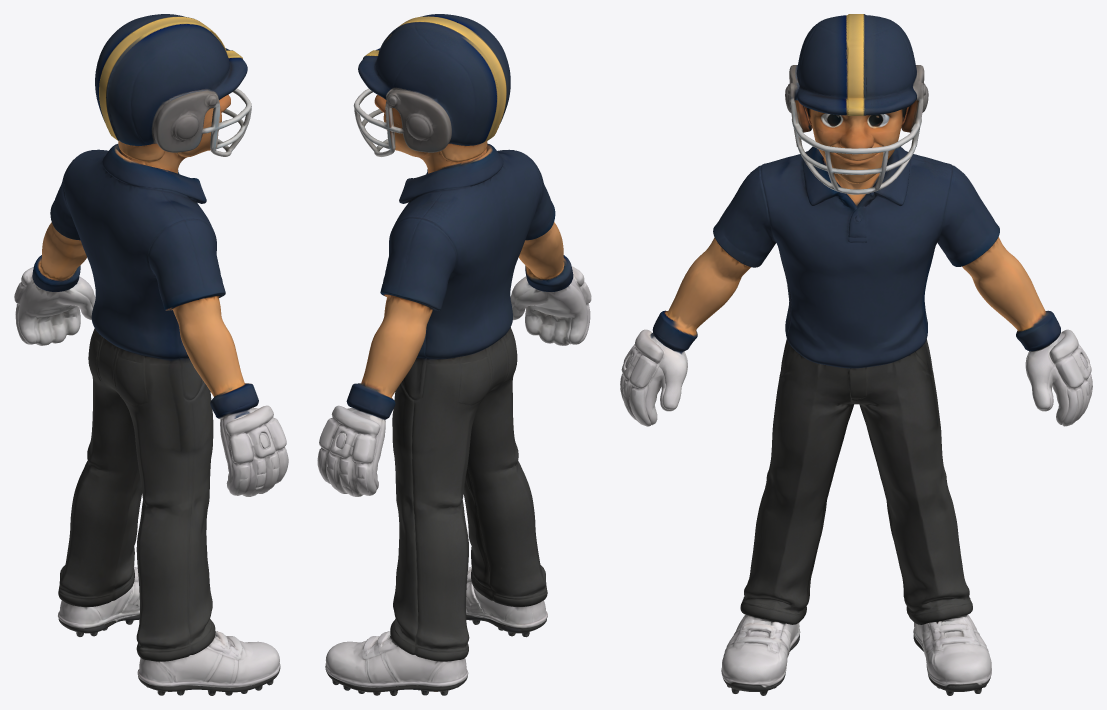
The model's file is nopads.glb.
3 renders of one model, left to right at view 1: azimuth 30°, elevation 25°; view 2: azimuth 150°, elevation 25°; view 3: azimuth 270°, elevation 25°, orthographic. The views are drawn at different scales.
Visible parts, largest first — view 1: tripo_node_2ed6657a-ca6c-4912-bce6-383ba70bda0d; view 2: tripo_node_2ed6657a-ca6c-4912-bce6-383ba70bda0d; view 3: tripo_node_2ed6657a-ca6c-4912-bce6-383ba70bda0d.
Part boxes in pixels (x1,y1,x2,y2): tripo_node_2ed6657a-ca6c-4912-bce6-383ba70bda0d: [14, 14, 288, 695]; tripo_node_2ed6657a-ca6c-4912-bce6-383ba70bda0d: [317, 14, 591, 695]; tripo_node_2ed6657a-ca6c-4912-bce6-383ba70bda0d: [620, 14, 1092, 695].
Size of the model in its own units: 0.2319 by 0.9788 by 0.6451.
Materials: 1 (1 with a texture image).
